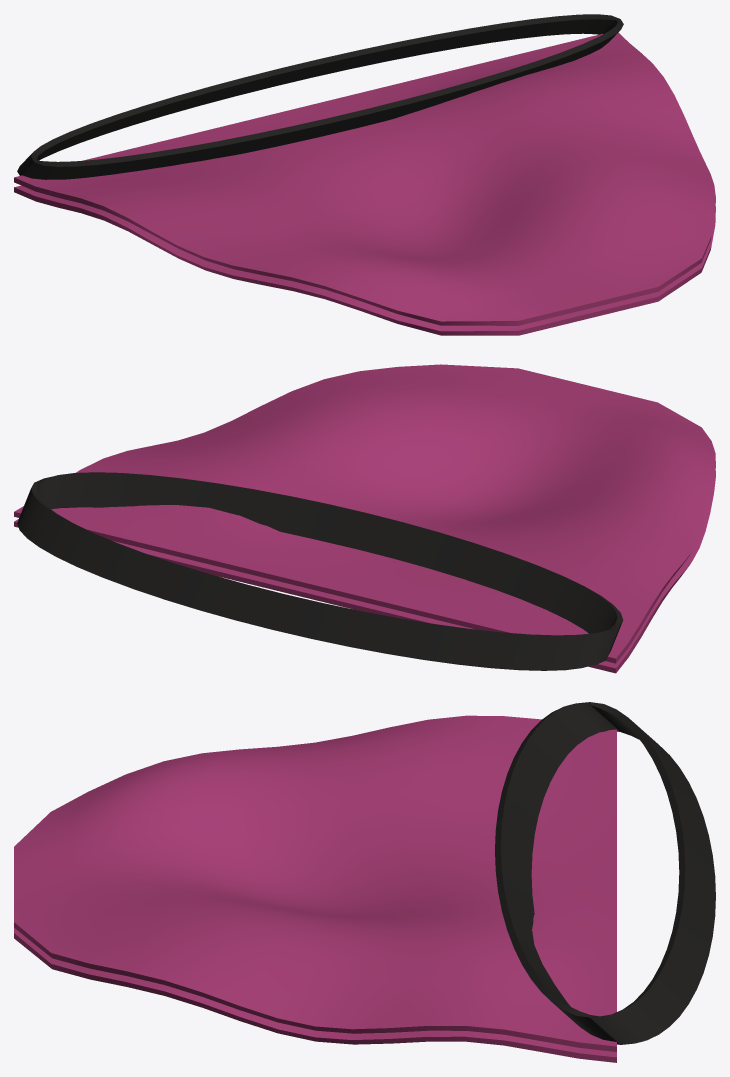
File: knickers-dropped-vibe-42cecdc2d1ff.glb
3 renders of one model, top to bottom at view 1: azimuth 30°, elevation 25°; view 2: azimuth 150°, elevation 25°; view 3: azimuth 270°, elevation 25°, orthographic. The views are drawn at different scales.
Parts seen in each view (by area): view 1: accent-magenta, rubber; view 2: accent-magenta, rubber; view 3: accent-magenta, rubber.
Boxes of the visible parts, x1=… form: accent-magenta: x1=14, y1=32, x2=715, y2=335; rubber: x1=17, y1=14, x2=623, y2=179; accent-magenta: x1=14, y1=364, x2=715, y2=673; rubber: x1=17, y1=472, x2=623, y2=670; accent-magenta: x1=14, y1=715, x2=616, y2=1062; rubber: x1=495, y1=702, x2=715, y2=1044.
Bounding box in the file's own units: 0.222 × 0.024 × 0.203.
